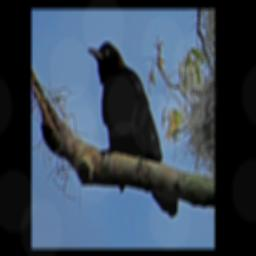Crow: (87, 42, 179, 219)
